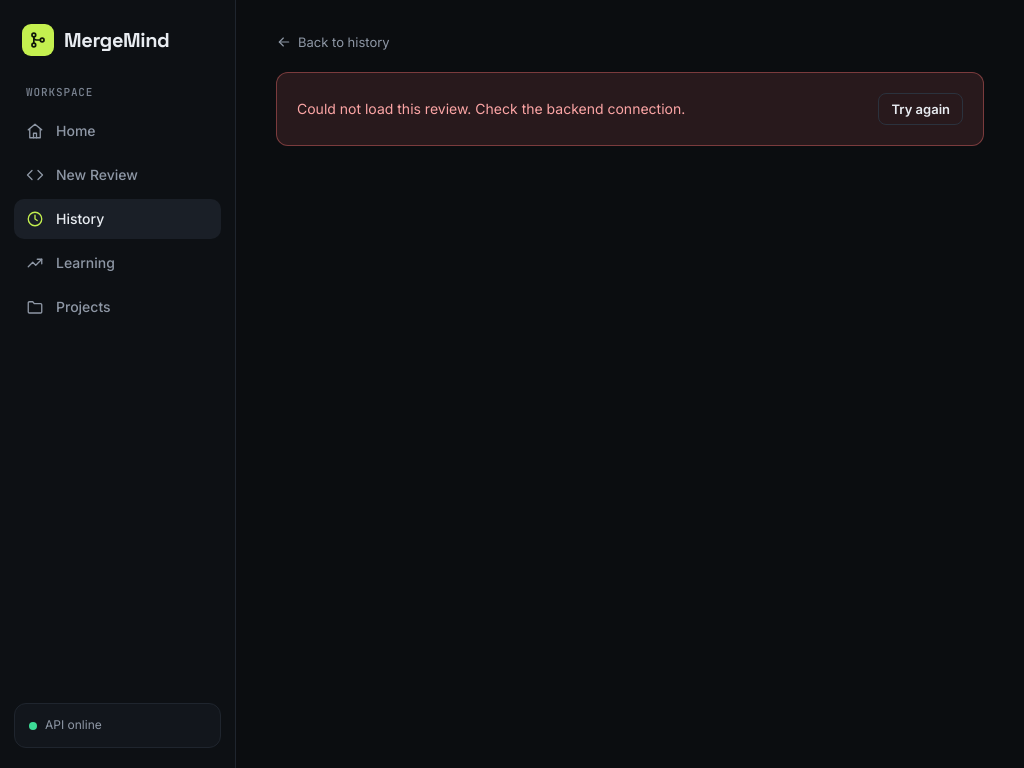
Review results › retries after an API error
The width and height of the screenshot is (1024, 768).
Click the button "Try again" at point(921, 109), box [878,93,963,125]
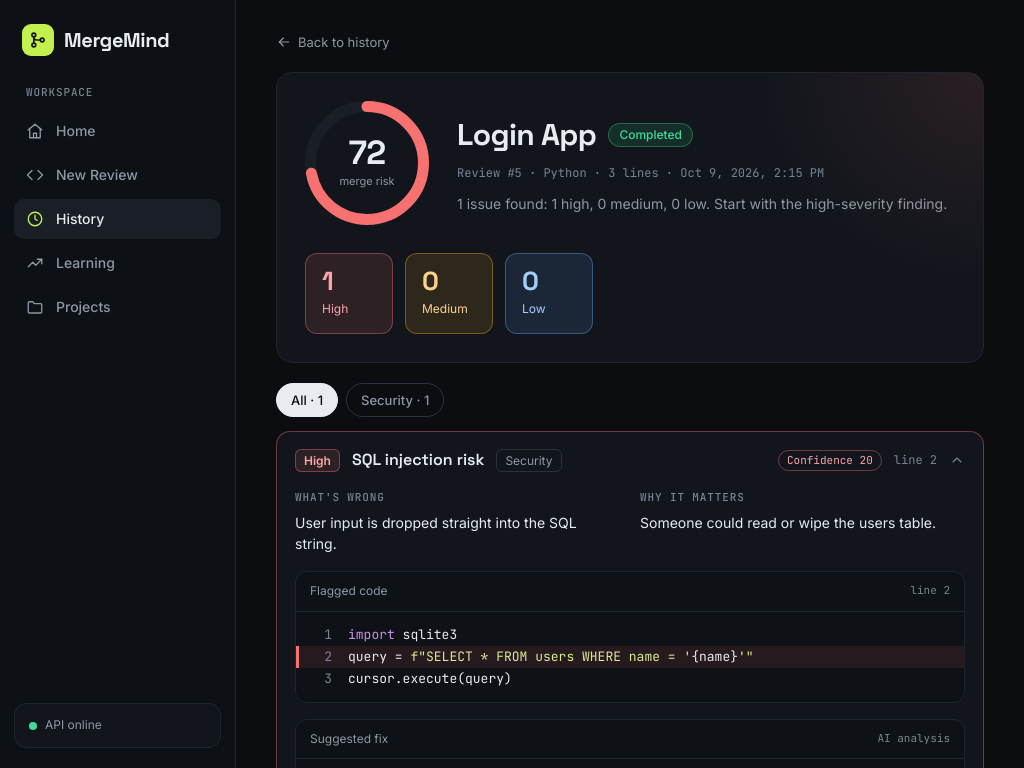
Now the heading "Login App" is shown, box [457,112,596,158]
